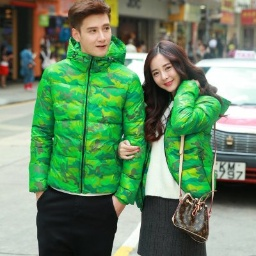face: (143, 40, 211, 98), (67, 1, 112, 59)
